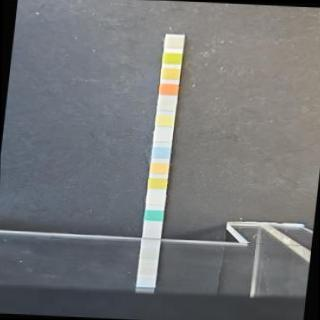mark: (159, 82, 177, 96), (165, 36, 183, 49), (152, 145, 169, 158), (150, 160, 168, 172), (155, 114, 173, 126), (161, 67, 179, 79), (163, 52, 181, 64), (145, 210, 162, 222), (153, 130, 171, 141), (147, 193, 164, 204), (148, 178, 166, 188), (158, 100, 176, 110)
